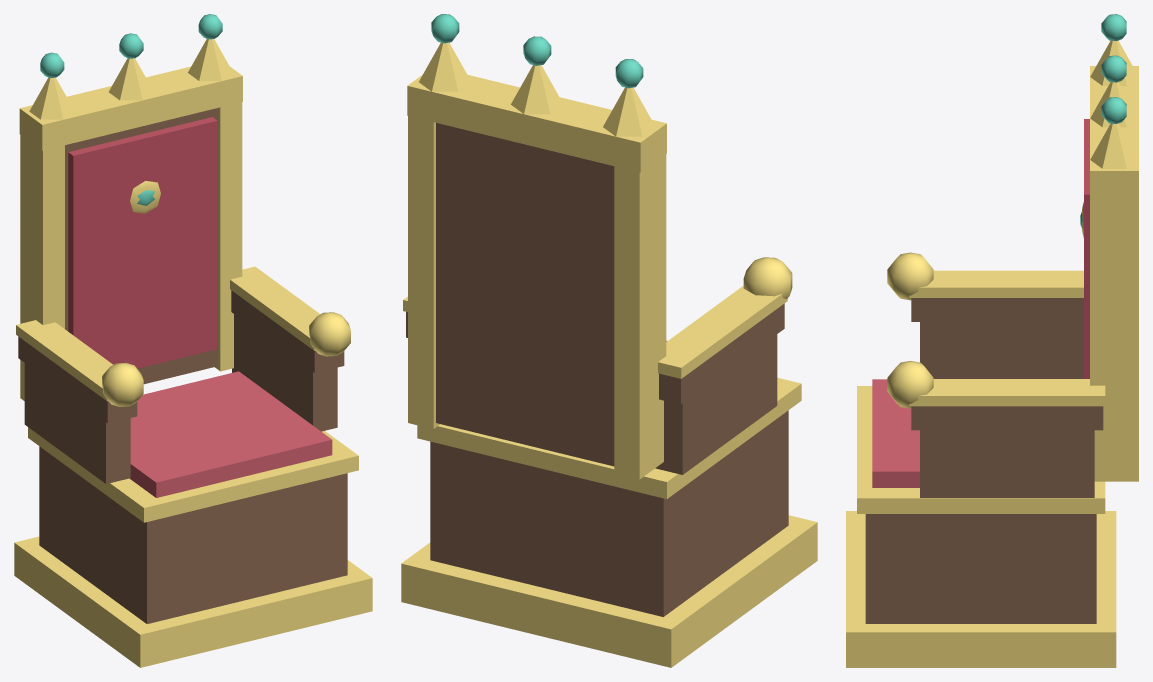
Rendered from seat_02_thron.glb.
3 views of the same model, side by side, from view 1: azimuth 30°, elevation 25°; view 2: azimuth 150°, elevation 25°; view 3: azimuth 270°, elevation 25° (orthographic). The views are drawn at different scales.
Parts seen in each view (by area): view 1: seat_02_thron; view 2: seat_02_thron; view 3: seat_02_thron.
Boxes of the visible parts, bbox=[...] form: seat_02_thron: bbox=[14, 14, 372, 667]; seat_02_thron: bbox=[401, 14, 817, 667]; seat_02_thron: bbox=[846, 14, 1138, 667].
Size of the model in its own units: 0.6945 by 1.39 by 0.672.
